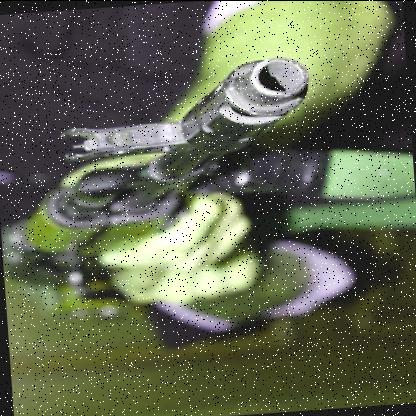rifle: (0, 43, 341, 302)
